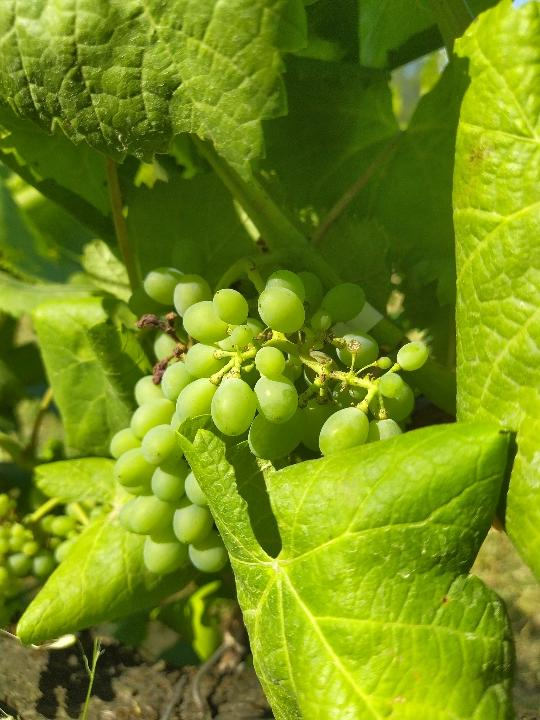grape: (108, 236, 434, 580)
